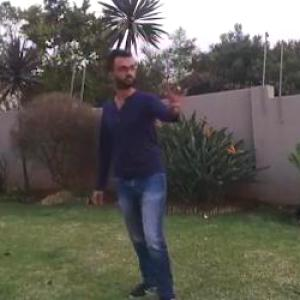takeoff-hand: (163, 70, 199, 112)
